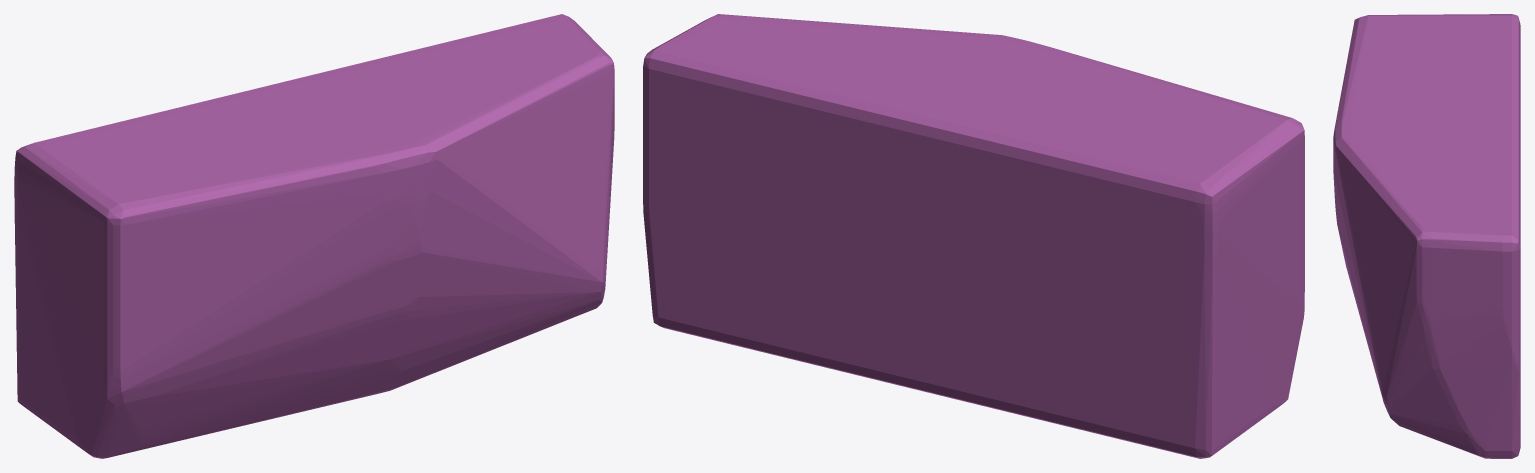
File: right_shoulder_pitch_link_part_7.obj
3 renders of one model, left to right at view 1: azimuth 30°, elevation 25°; view 2: azimuth 150°, elevation 25°; view 3: azimuth 270°, elevation 25°, orthographic. The views are drawn at different scales.
Size of the model in its own units: 0.0594 by 0.0273 by 0.0204.
